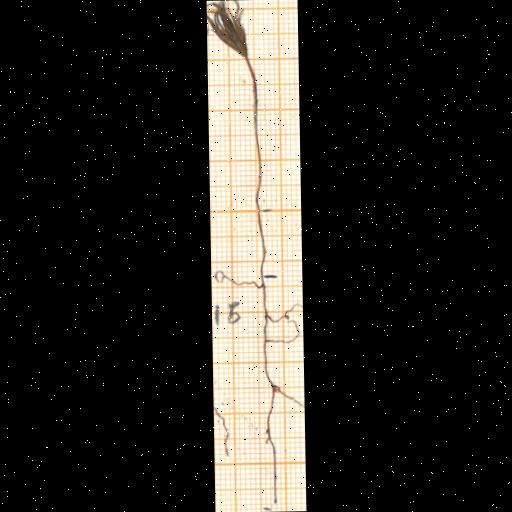flowerPinus: (206, 0, 247, 59)
rootPinus: (216, 274, 302, 500), (272, 324, 299, 343), (223, 422, 228, 455)
stemPinus: (247, 59, 265, 285)
